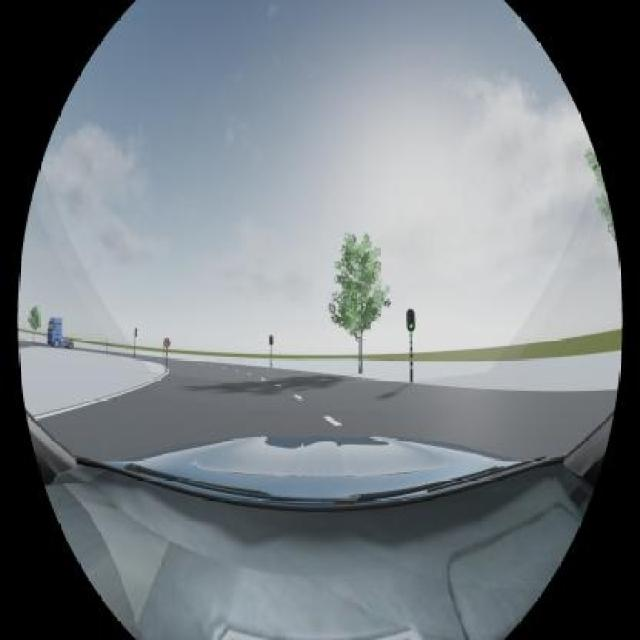forb_speed_over_70: (164, 339, 170, 348)
